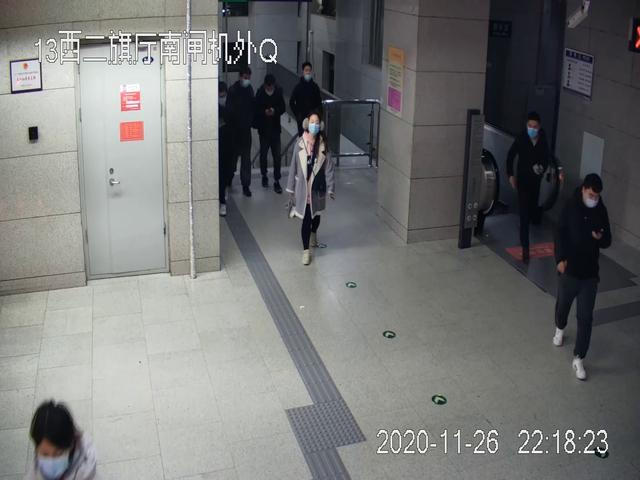person: (553, 174, 612, 382), (287, 112, 337, 265), (507, 112, 554, 265), (253, 74, 288, 193), (291, 62, 324, 187), (228, 66, 255, 198)
